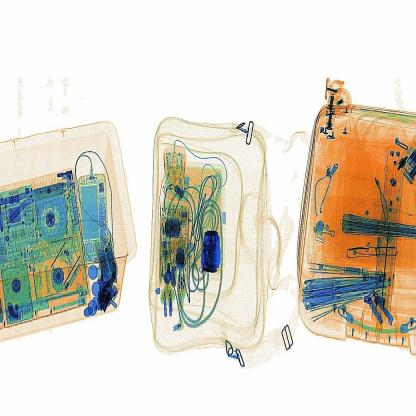scissors: (195, 220, 227, 278)
